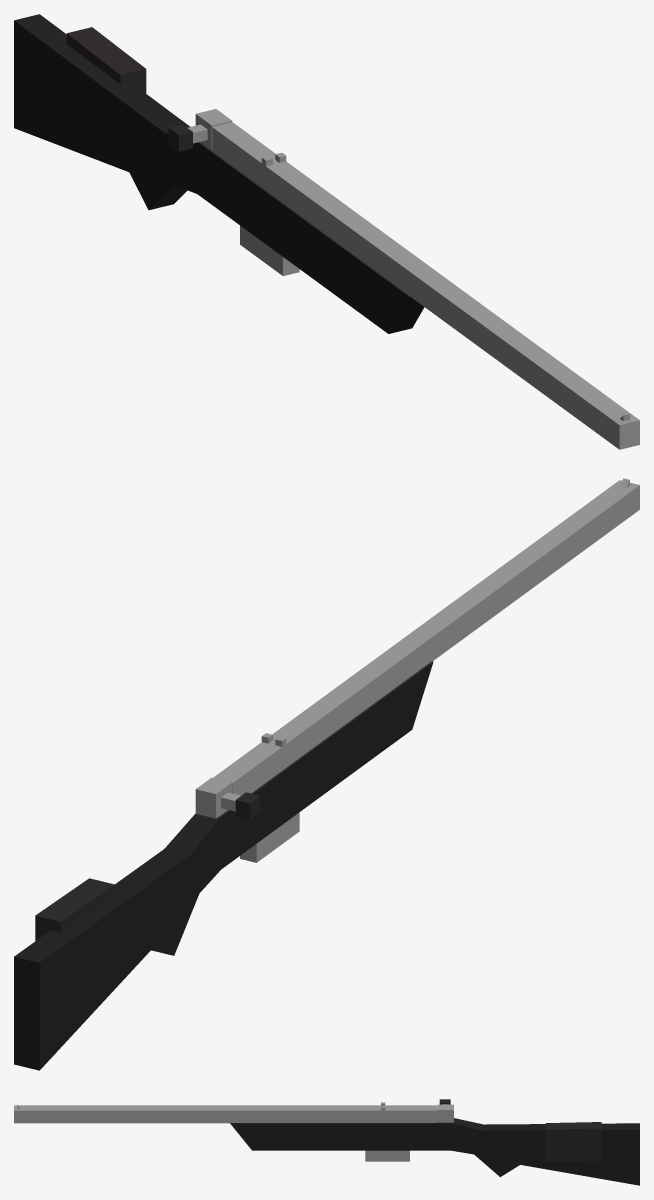
Rendered from BoltActionRifle.FBX.
3 renders of one model, top to bottom at view 1: azimuth 30°, elevation 25°; view 2: azimuth 150°, elevation 25°; view 3: azimuth 270°, elevation 25°, orthographic. The views are drawn at different scales.
Visible parts, largest first — view 1: BaRifle, BaRifle_Bolt, BaRifleMag; view 2: BaRifle, BaRifle_Bolt, BaRifleMag; view 3: BaRifle, BaRifleMag, BaRifle_Bolt.
Boxes of the visible parts, left/top/right/bottom form: BaRifle: left=14, top=14, right=639, bottom=449; BaRifle_Bolt: left=168, top=109, right=232, bottom=151; BaRifleMag: left=240, top=225, right=299, bottom=275; BaRifle: left=14, top=478, right=639, bottom=1070; BaRifle_Bolt: left=195, top=777, right=259, bottom=819; BaRifleMag: left=240, top=812, right=299, bottom=862; BaRifle: left=14, top=1102, right=639, bottom=1185; BaRifleMag: left=365, top=1150, right=409, bottom=1161; BaRifle_Bolt: left=437, top=1099, right=453, bottom=1122.
Size of the model in its own units: 18.2 by 276 by 37.68.
